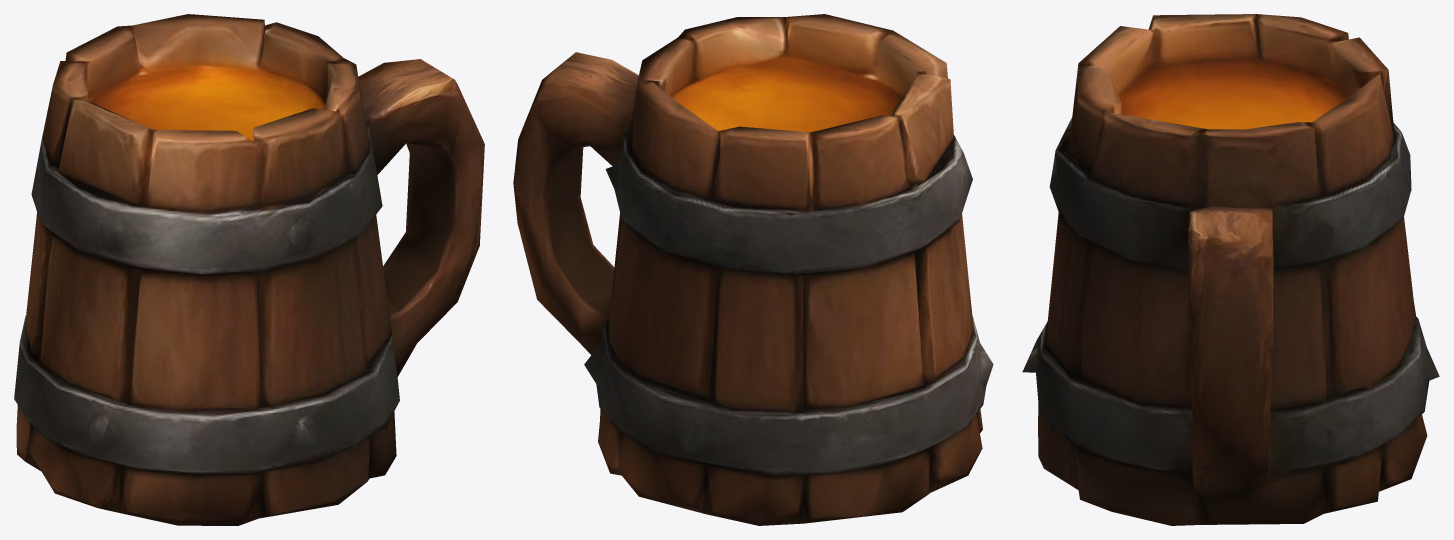
The model's file is meal_grog-desktop.glb.
3 renders of one model, left to right at view 1: azimuth 30°, elevation 25°; view 2: azimuth 150°, elevation 25°; view 3: azimuth 270°, elevation 25°, orthographic.
Visible parts, largest first — view 1: tripo_node_12836e16-e992-4322-8c18-786808a46dd2; view 2: tripo_node_12836e16-e992-4322-8c18-786808a46dd2; view 3: tripo_node_12836e16-e992-4322-8c18-786808a46dd2.
Boxes of the visible parts, x1,y1,x2,y2 form: tripo_node_12836e16-e992-4322-8c18-786808a46dd2: (14, 14, 484, 525); tripo_node_12836e16-e992-4322-8c18-786808a46dd2: (513, 14, 993, 525); tripo_node_12836e16-e992-4322-8c18-786808a46dd2: (1022, 14, 1439, 525).
Bounding box in the file's own units: 0.9822 × 0.8016 × 0.8076.
1 material, 1 textured.
